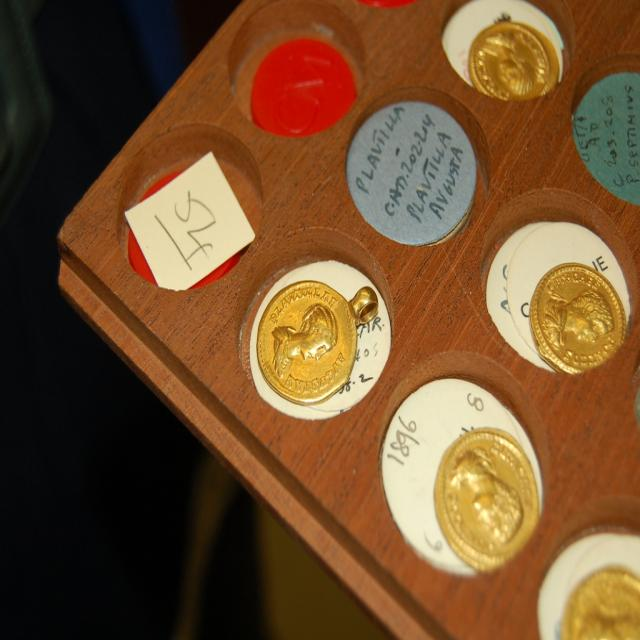Coin: (251, 279, 383, 403), (432, 420, 539, 572), (525, 261, 626, 374), (466, 13, 559, 101), (560, 562, 640, 639)
